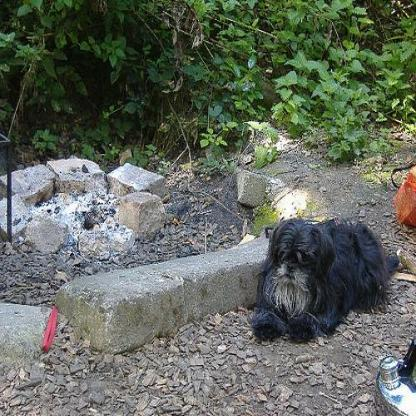affenpinscher: (250, 216, 400, 344)
